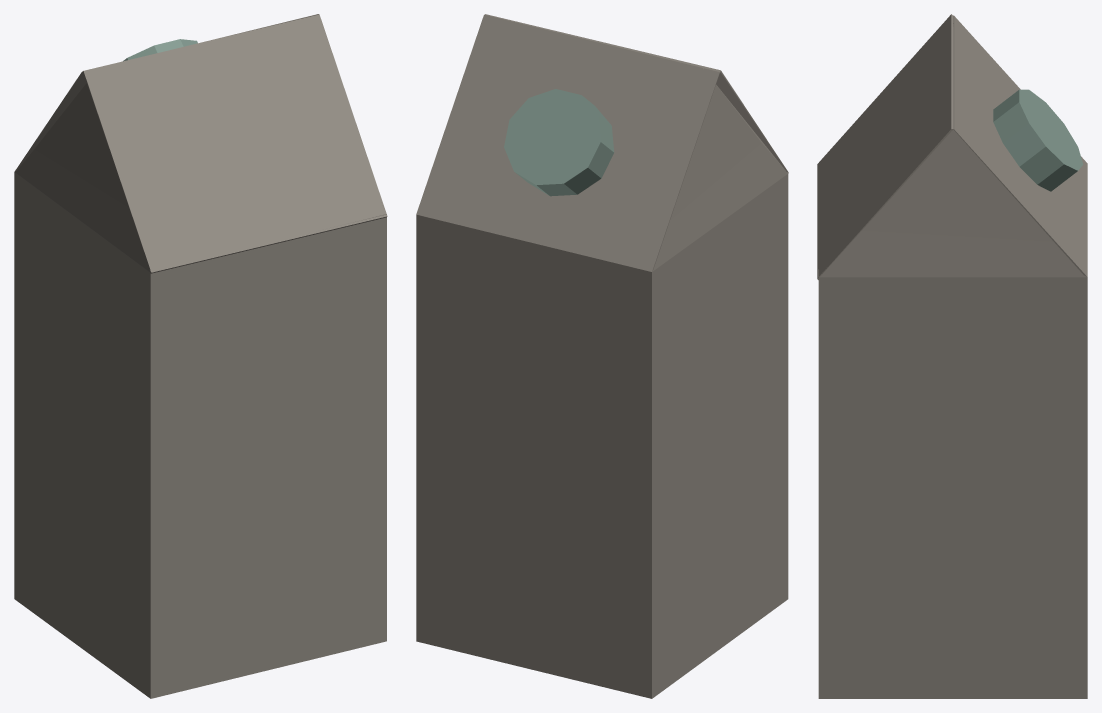
The model's file is milk.fbx.
The picture shows the model from 3 angles, left to right: view 1: azimuth 30°, elevation 25°; view 2: azimuth 150°, elevation 25°; view 3: azimuth 270°, elevation 25°; orthographic projection.
Visible parts, largest first — view 1: Cube; view 2: Cube; view 3: Cube.
Part boxes in pixels (x1,y1,x2,y2): Cube: (14,14,387,698); Cube: (416,14,788,698); Cube: (817,14,1087,698).
Size of the model in its own units: 35.26 by 82.62 by 35.43.
